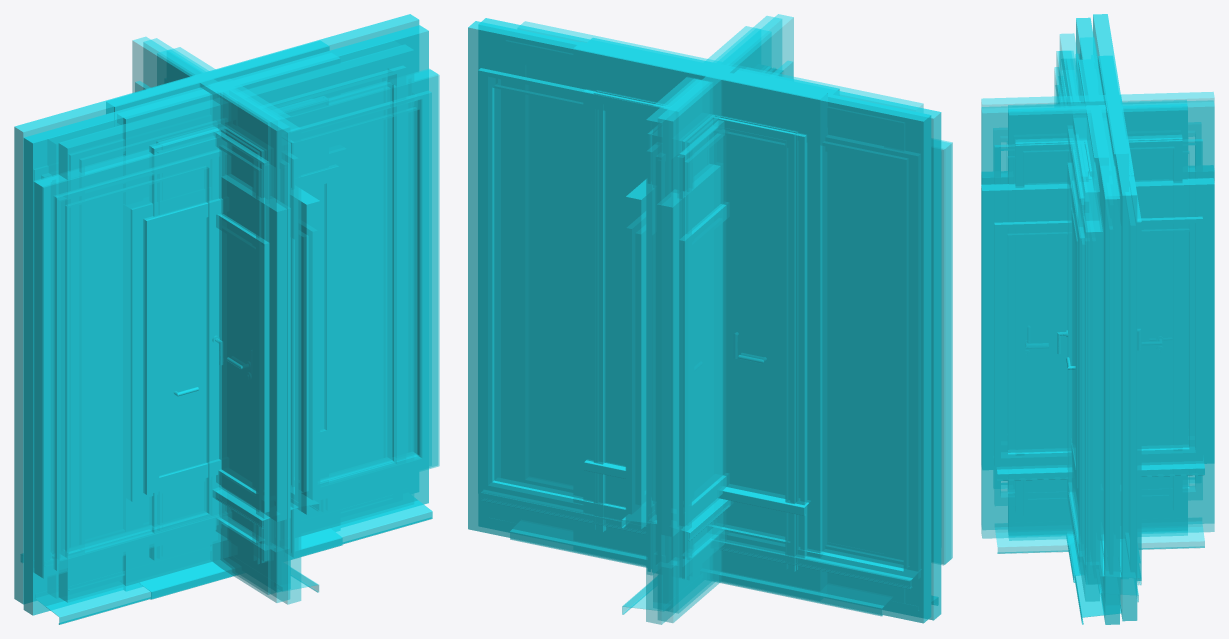
The model's file is Level_04_openings.glb.
3 views of the same model, side by side, from view 1: azimuth 30°, elevation 25°; view 2: azimuth 150°, elevation 25°; view 3: azimuth 270°, elevation 25° (orthographic). The views are drawn at different scales.
Visible parts, largest first — view 1: world; view 2: world; view 3: world.
Part boxes in pixels (<box>): world: <box>14,14,439,624</box>; world: <box>468,14,952,624</box>; world: <box>981,14,1214,624</box>.
Size of the model in its own units: 2.4 by 2.67 by 1.3.
